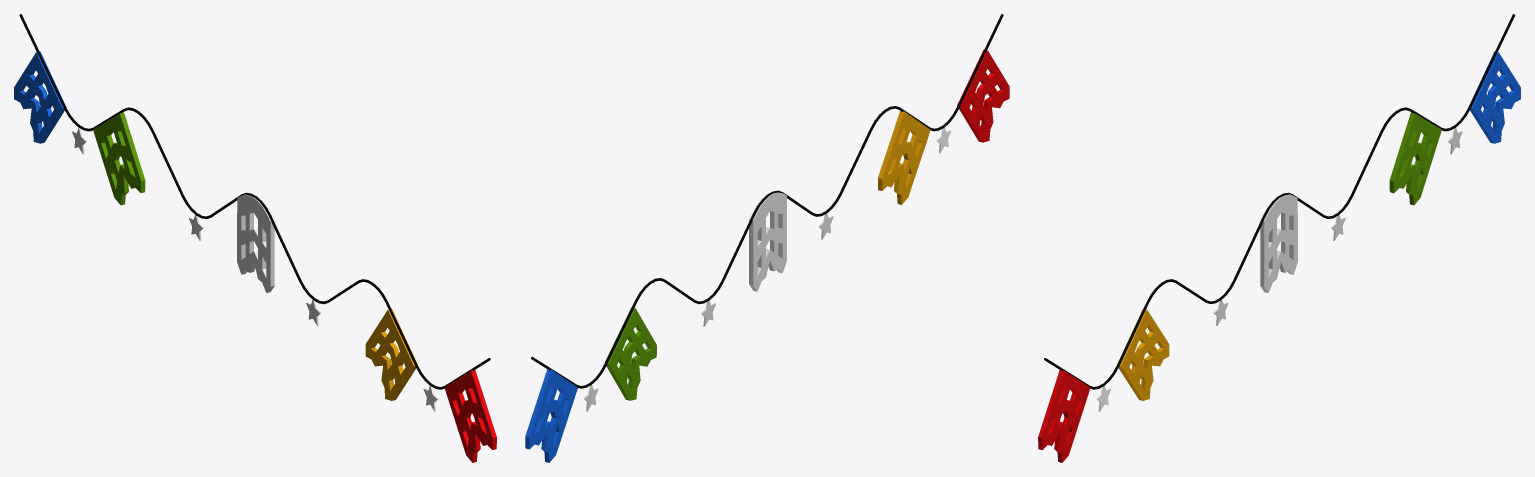
The model's file is CARNIVAL GARLAND.glb.
3 views of the same model, side by side, from view 1: azimuth 30°, elevation 25°; view 2: azimuth 150°, elevation 25°; view 3: azimuth 330°, elevation 25° (orthographic).
Visible parts, largest first — view 1: CARNIVAL GARLAND; view 2: CARNIVAL GARLAND; view 3: CARNIVAL GARLAND.
Boxes of the visible parts, x1=… form: CARNIVAL GARLAND: x1=14, y1=14, x2=496, y2=462; CARNIVAL GARLAND: x1=525, y1=14, x2=1009, y2=462; CARNIVAL GARLAND: x1=1038, y1=14, x2=1520, y2=462.
Size of the model in its own units: 0.0588 by 1.53 by 11.44.
